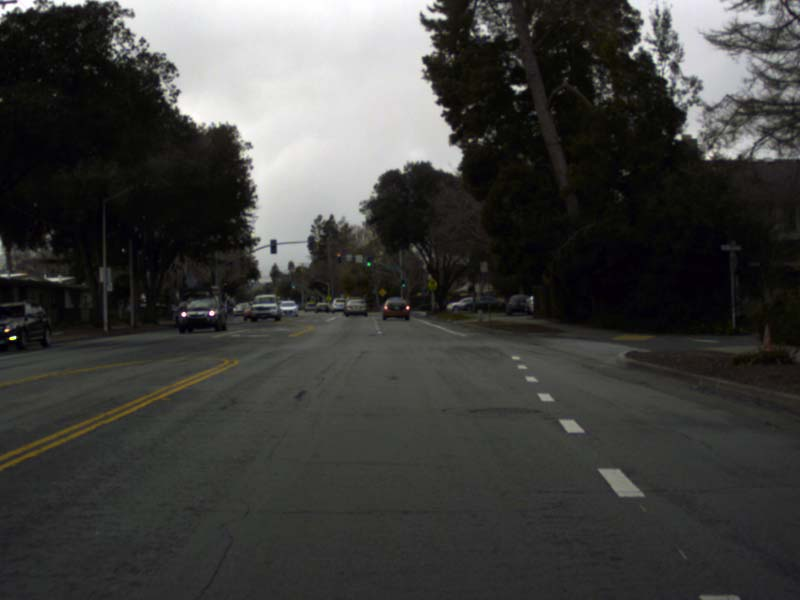Green: (366, 257, 370, 266), (401, 279, 404, 287), (292, 282, 294, 288)
Red: (223, 281, 227, 293), (337, 254, 340, 263)
